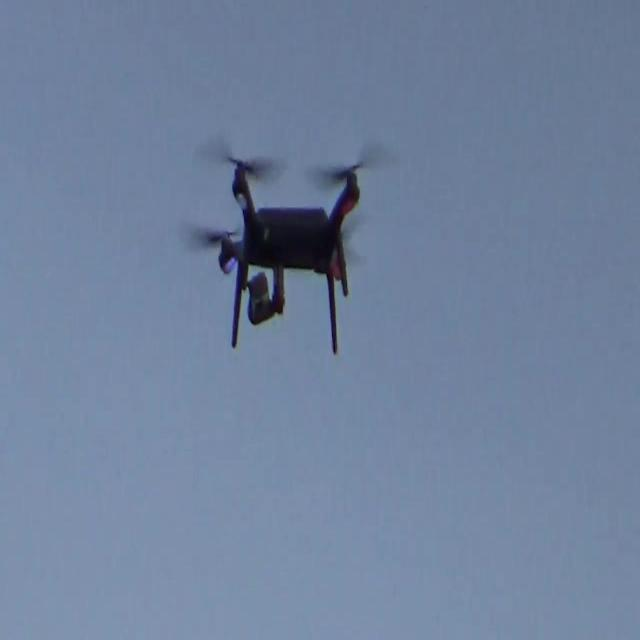drone: (213, 150, 369, 365)
